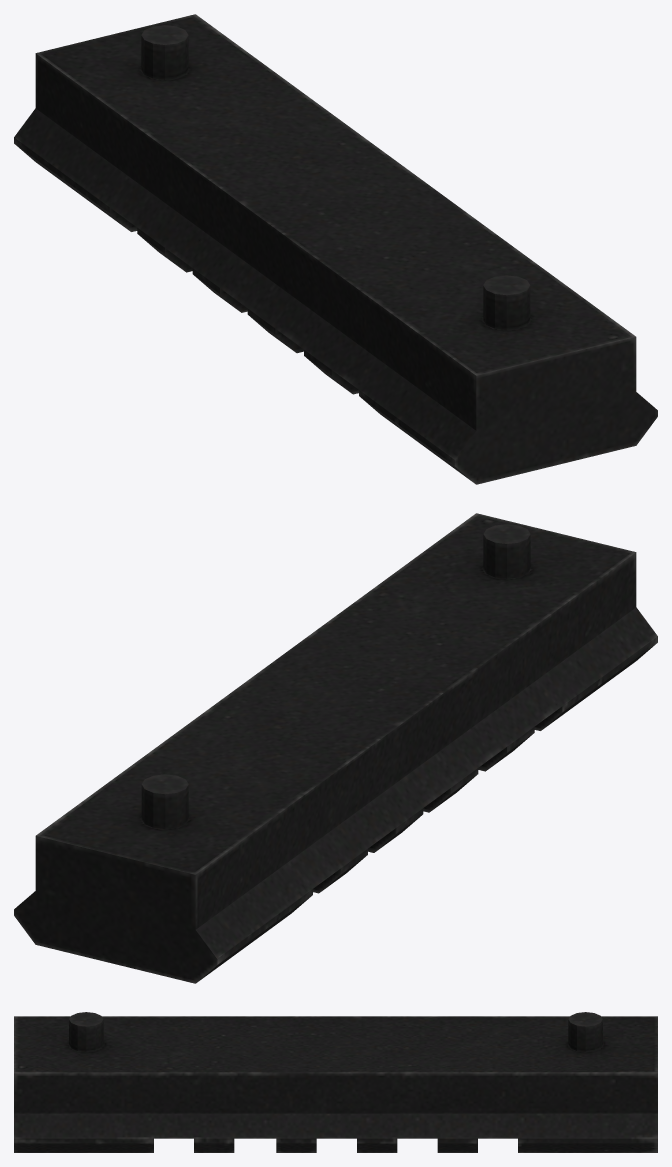
3 renders of one model, top to bottom at view 1: azimuth 30°, elevation 25°; view 2: azimuth 150°, elevation 25°; view 3: azimuth 270°, elevation 25°, orthographic. The views are drawn at different scales.
Visible parts, largest first — view 1: TW_5cc70146e4a949000d73bf6b_PZ_Import; view 2: TW_5cc70146e4a949000d73bf6b_PZ_Import; view 3: TW_5cc70146e4a949000d73bf6b_PZ_Import.
Boxes of the visible parts, box(x1,y1,x2,y2) form: TW_5cc70146e4a949000d73bf6b_PZ_Import: box(14, 14, 657, 484); TW_5cc70146e4a949000d73bf6b_PZ_Import: box(14, 513, 657, 983); TW_5cc70146e4a949000d73bf6b_PZ_Import: box(14, 1012, 657, 1152).
Size of the model in its own units: 0.0123 by 0.0461 by 0.00829.
Materials: 1 (1 with a texture image).
